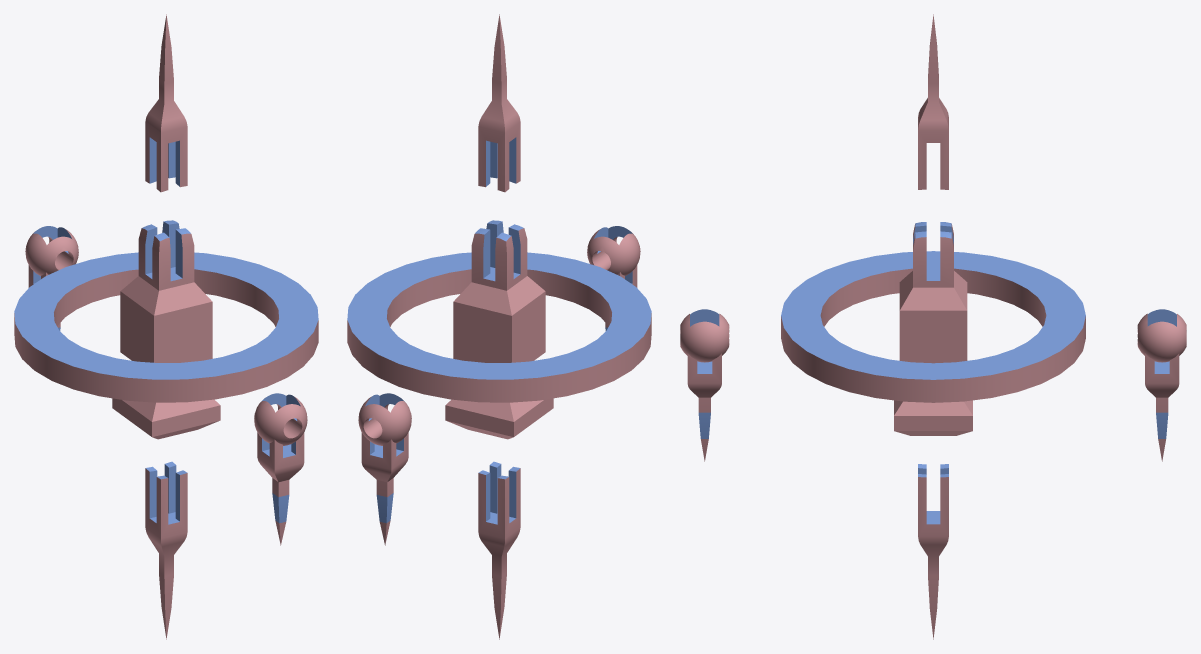
3 views of the same model, side by side, from view 1: azimuth 30°, elevation 25°; view 2: azimuth 150°, elevation 25°; view 3: azimuth 270°, elevation 25° (orthographic).
Visible parts, largest first — view 1: Cylinder, Cube, Cube.001, Cube.003, Cube.002; view 2: Cylinder, Cube, Cube.002, Cube.003, Cube.001; view 3: Cylinder, Cube, Cube.001, Cube.002, Cube.003.
Part boxes in pixels (box(x1,y1,x2,y2)): Cylinder: box(14, 252, 318, 402); Cube: box(112, 14, 220, 439); Cube.001: box(254, 393, 307, 545); Cube.003: box(145, 461, 187, 639); Cube.002: box(25, 226, 78, 330); Cylinder: box(347, 252, 651, 402); Cube: box(445, 14, 553, 439); Cube.002: box(358, 393, 411, 545); Cube.003: box(478, 461, 520, 639); Cube.001: box(587, 226, 640, 330); Cylinder: box(781, 251, 1085, 402); Cube: box(894, 14, 972, 435); Cube.001: box(680, 309, 729, 461); Cube.002: box(1137, 309, 1186, 461); Cube.003: box(918, 464, 948, 639).
Size of the model in its own units: 4 by 9.06 by 6.64.
